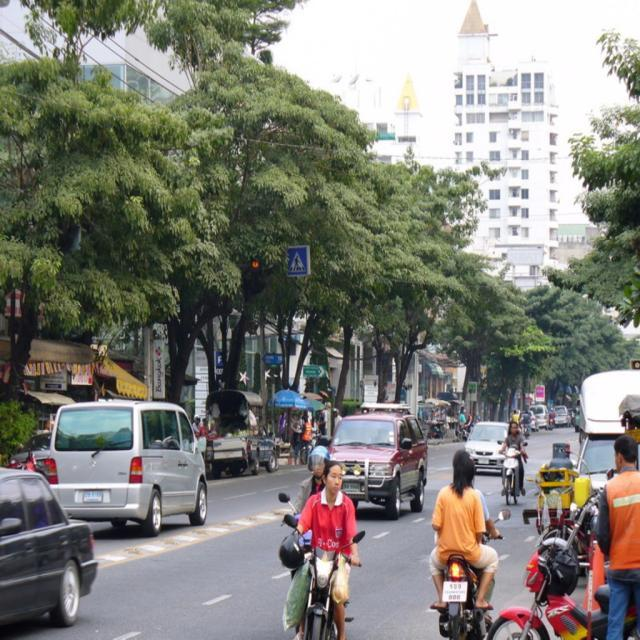road_sign: (284, 244, 310, 276)
traffic light: (250, 254, 262, 287)
